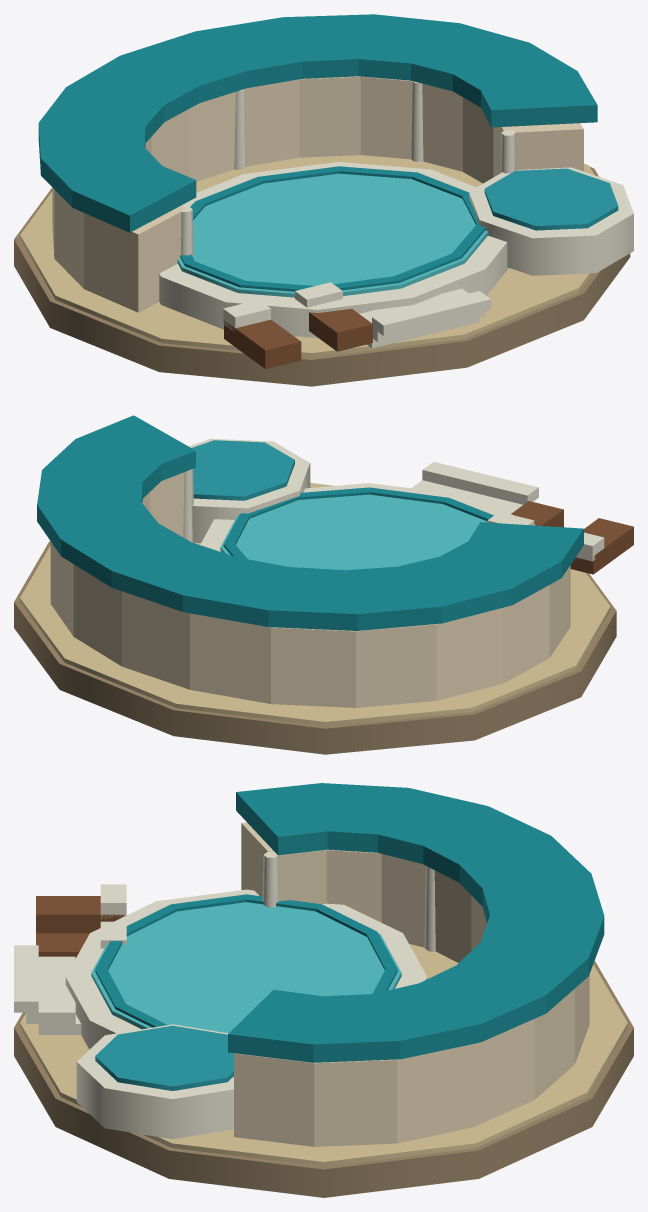
The model's file is recovery-center-lv2.glb.
3 renders of one model, top to bottom at view 1: azimuth 30°, elevation 25°; view 2: azimuth 150°, elevation 25°; view 3: azimuth 270°, elevation 25°, orthographic. The views are drawn at different scales.
Parts seen in each view (by area): view 1: crescent_roof_aqua, crescent_bathhouse_cream, water_pool, foundation_stoneDark, foundation_sand, pool_terrace_white, raised_pool_white, side_water_water, pool_mosaic_aqua, sun_loungers_wood, pool_steps_white, body_white (+1 smaller); view 2: crescent_roof_aqua, crescent_bathhouse_cream, foundation_stoneDark, foundation_sand, water_pool, side_water_water, pool_steps_white, raised_pool_white, sun_loungers_wood, pool_mosaic_aqua, pool_terrace_white, lounger_cushions_white (+1 smaller); view 3: crescent_roof_aqua, crescent_bathhouse_cream, water_pool, foundation_stoneDark, foundation_sand, raised_pool_white, side_water_water, pool_terrace_white, pool_steps_white, pool_mosaic_aqua, sun_loungers_wood, body_white (+1 smaller).
Boxes of the visible parts, bbox=[...] form: crescent_roof_aqua: bbox=[38, 14, 597, 232]; crescent_bathhouse_cream: bbox=[52, 76, 583, 312]; water_pool: bbox=[177, 173, 488, 297]; foundation_stoneDark: bbox=[14, 167, 630, 386]; foundation_sand: bbox=[20, 155, 594, 357]; pool_terrace_white: bbox=[159, 162, 508, 337]; raised_pool_white: bbox=[469, 167, 633, 275]; side_water_water: bbox=[484, 168, 618, 230]; pool_mosaic_aqua: bbox=[180, 166, 485, 291]; sun_loungers_wood: bbox=[224, 308, 372, 368]; pool_steps_white: bbox=[359, 288, 491, 348]; body_white: bbox=[181, 81, 516, 255]; crescent_roof_aqua: bbox=[37, 415, 583, 630]; crescent_bathhouse_cream: bbox=[50, 472, 570, 707]; foundation_stoneDark: bbox=[14, 541, 616, 754]; foundation_sand: bbox=[20, 483, 610, 726]; water_pool: bbox=[220, 494, 487, 570]; side_water_water: bbox=[192, 440, 294, 500]; pool_steps_white: bbox=[411, 462, 538, 513]; raised_pool_white: bbox=[189, 438, 310, 542]; sun_loungers_wood: bbox=[511, 501, 633, 574]; pool_mosaic_aqua: bbox=[223, 487, 493, 559]; pool_terrace_white: bbox=[200, 483, 534, 551]; lounger_cushions_white: bbox=[487, 512, 604, 561]; crescent_roof_aqua: bbox=[228, 783, 604, 1062]; crescent_bathhouse_cream: bbox=[234, 822, 589, 1146]; water_pool: bbox=[91, 902, 401, 1033]; foundation_stoneDark: bbox=[14, 961, 633, 1197]; foundation_sand: bbox=[20, 944, 627, 1166]; raised_pool_white: bbox=[76, 1024, 233, 1139]; side_water_water: bbox=[95, 1025, 233, 1090]; pool_terrace_white: bbox=[65, 889, 427, 1049]; pool_steps_white: bbox=[14, 945, 81, 1034]; pool_mosaic_aqua: bbox=[95, 894, 397, 1027]; sun_loungers_wood: bbox=[36, 896, 124, 958]; body_white: bbox=[262, 852, 435, 951].
Size of the model in its own units: 1 by 0.2335 by 0.9231.
